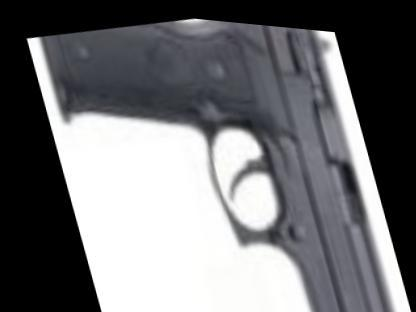pistol: (39, 2, 407, 311)
